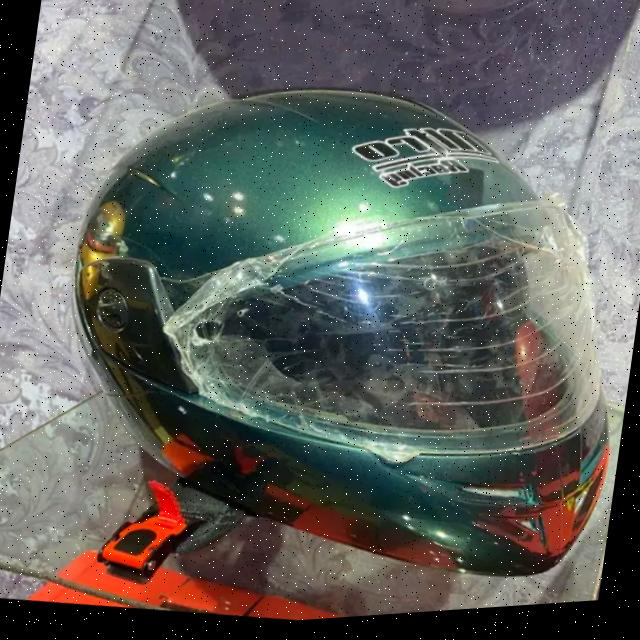Helmet: (25, 57, 640, 592)
